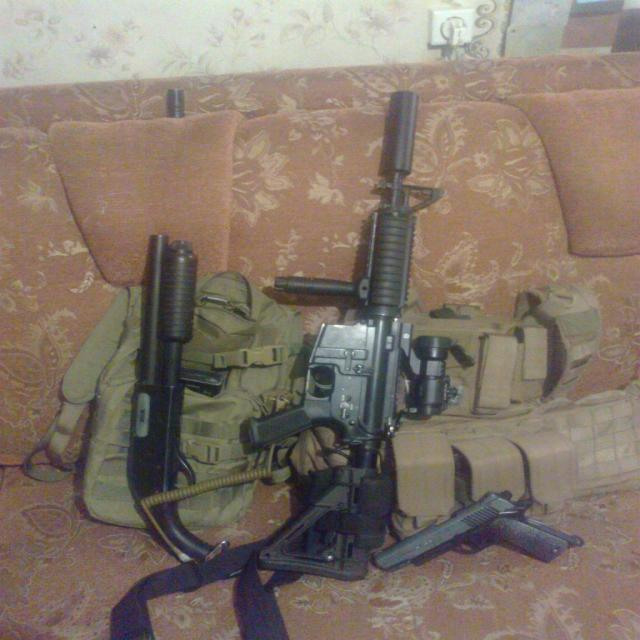firearm: (232, 89, 454, 580), (120, 232, 219, 574)
pistol: (368, 488, 585, 574)
